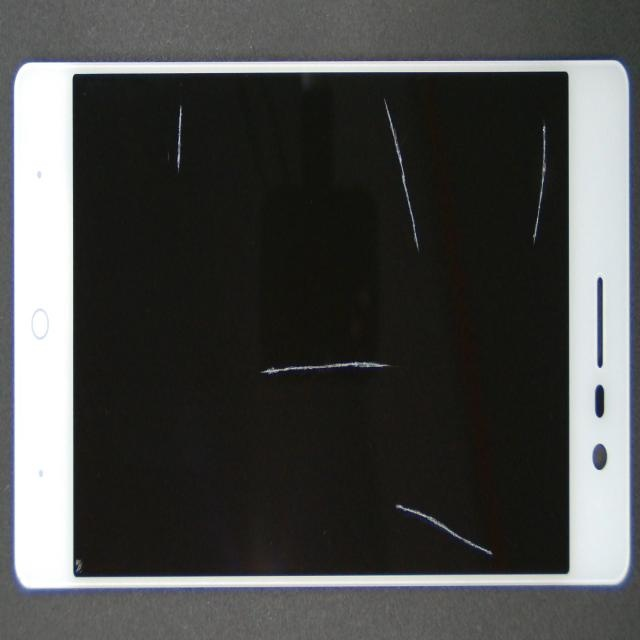scratch: (309, 299, 640, 640), (269, 191, 536, 540), (288, 81, 640, 192), (234, 141, 614, 230), (89, 7, 258, 187)
